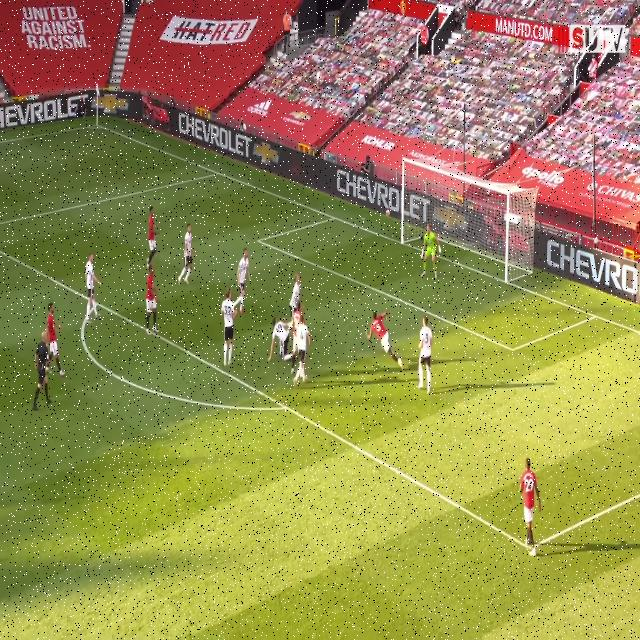Ball: (383, 206, 392, 220)
GoalKeeper: (421, 223, 446, 282)
TEAM 1: (519, 454, 545, 561), (366, 309, 406, 378), (43, 298, 67, 380), (292, 326, 314, 391), (142, 265, 161, 335), (146, 202, 160, 270), (287, 303, 303, 345)
TEAM 2: (217, 288, 242, 368), (414, 317, 440, 391), (83, 250, 104, 323), (268, 309, 290, 367), (180, 222, 198, 290), (239, 249, 255, 315), (287, 276, 299, 310)
